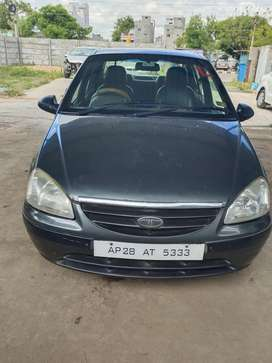AP28AT5333: (93, 240, 203, 260)
